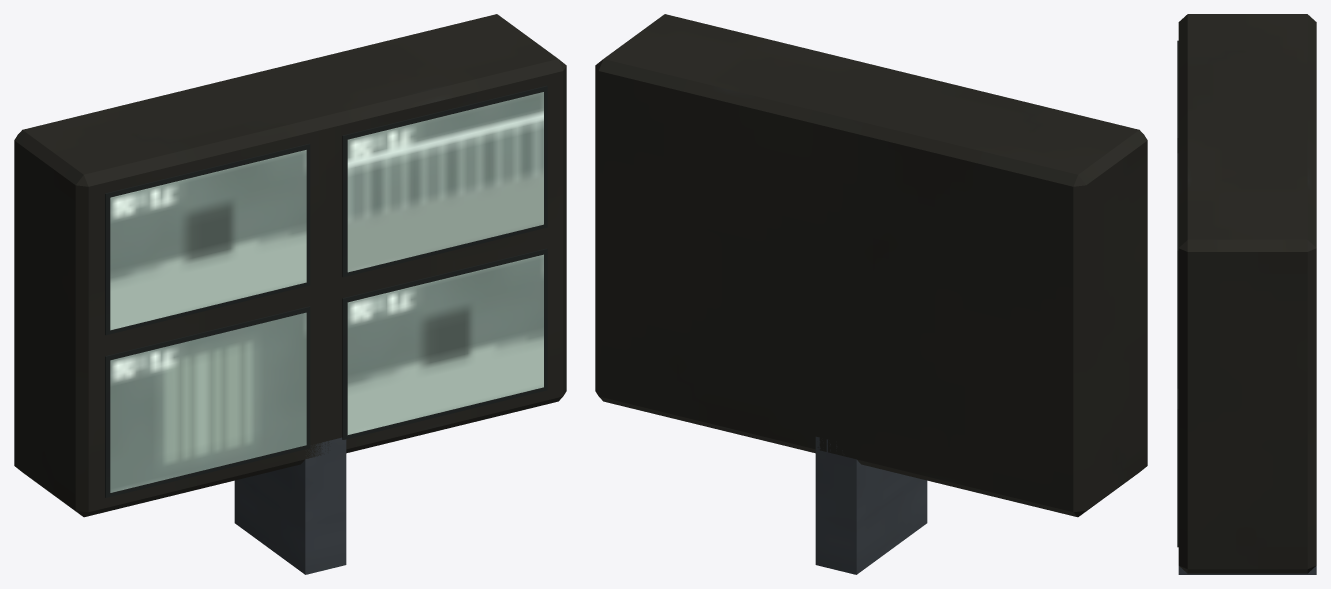
The model's file is monitor_bank.fbx.
3 views of the same model, side by side, from view 1: azimuth 30°, elevation 25°; view 2: azimuth 150°, elevation 25°; view 3: azimuth 270°, elevation 25° (orthographic). The views are drawn at different scales.
Parts seen in each view (by area): view 1: monitor_bank, monitor_bank_screens; view 2: monitor_bank; view 3: monitor_bank.
Boxes of the visible parts, x1,y1,x2,y2 form: monitor_bank: (14, 14, 566, 574); monitor_bank_screens: (110, 92, 543, 492); monitor_bank: (595, 14, 1147, 574); monitor_bank: (1177, 14, 1316, 574).
Size of the model in its own units: 1.2 by 1.05 by 0.305.
Materials: 1 (1 with a texture image).
